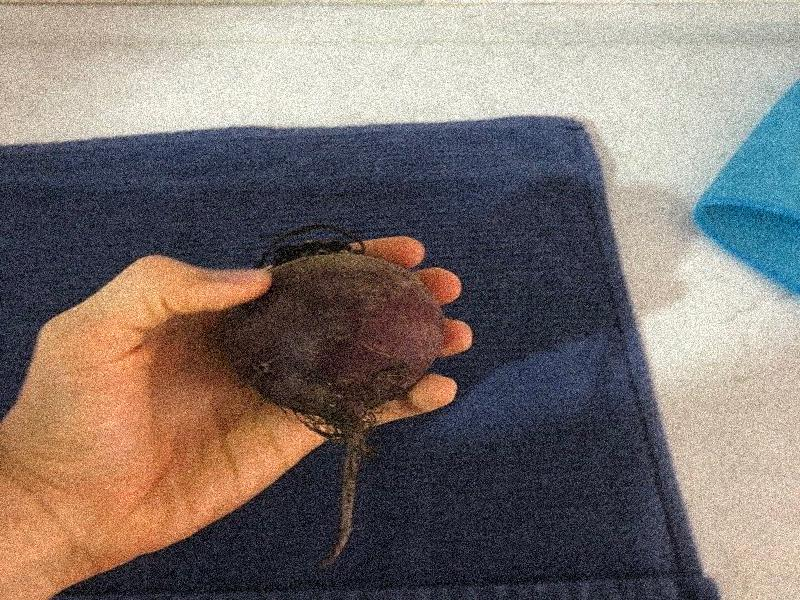Beet: (225, 225, 445, 567)
